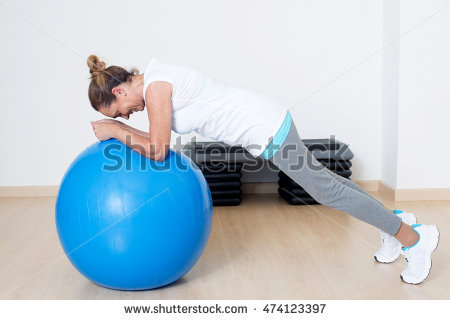blue ball: (54, 130, 214, 291)
